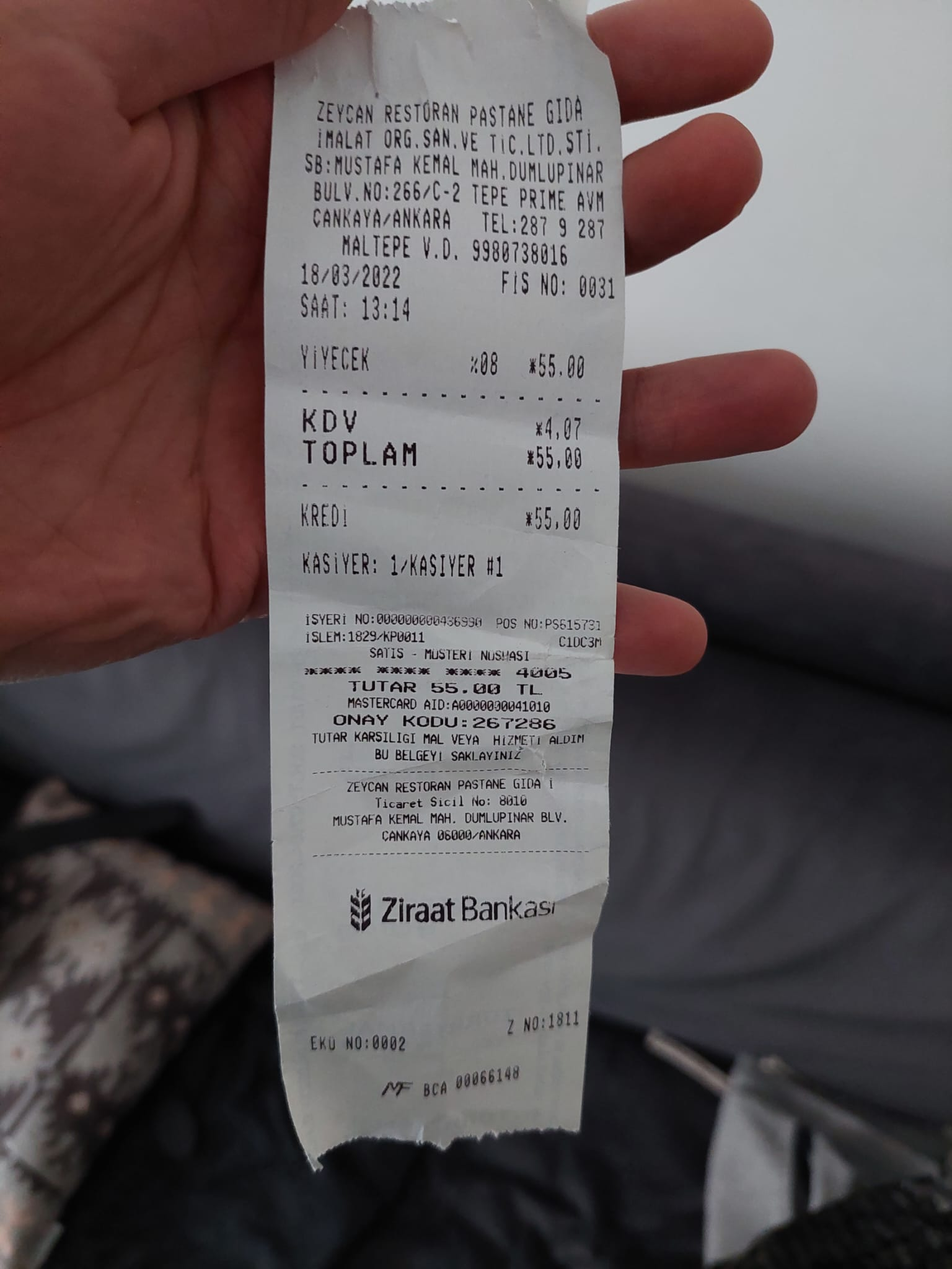date: (287, 258, 411, 294)
price: (533, 441, 597, 473)
workplace: (298, 86, 611, 214)
